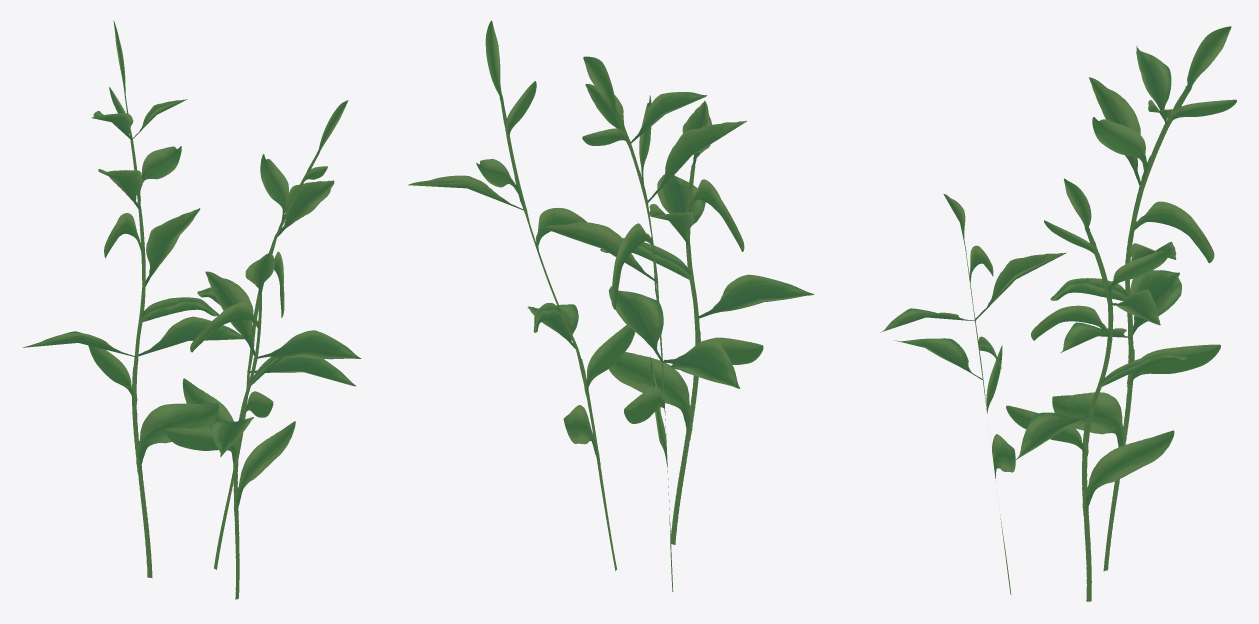
File: MEADOW_SM_Plant_01_02.gltf
3 views of the same model, side by side, from view 1: azimuth 30°, elevation 25°; view 2: azimuth 150°, elevation 25°; view 3: azimuth 270°, elevation 25° (orthographic). The views are drawn at different scales.
Parts seen in each view (by area): view 1: SM_Plant_01_02_LOD0; view 2: SM_Plant_01_02_LOD0; view 3: SM_Plant_01_02_LOD0.
Boxes of the visible parts, x1=… form: SM_Plant_01_02_LOD0: x1=23, y1=20, x2=361, y2=599; SM_Plant_01_02_LOD0: x1=408, y1=20, x2=814, y2=591; SM_Plant_01_02_LOD0: x1=880, y1=26, x2=1236, y2=601.
Bounding box in the file's own units: 0.5454 × 0.8363 × 0.5193.
Materials: 1 (1 with a texture image).
